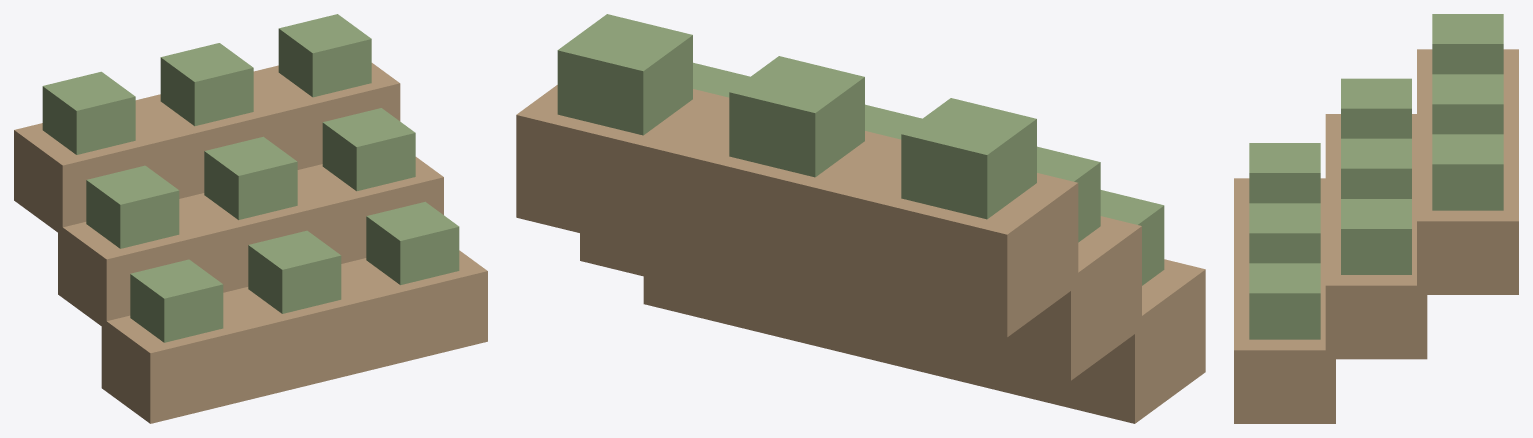
Rendered from voxel-city-districts-produce-display-f2a05327__24876.glb.
3 renders of one model, left to right at view 1: azimuth 30°, elevation 25°; view 2: azimuth 150°, elevation 25°; view 3: azimuth 270°, elevation 25°, orthographic. The views are drawn at different scales.
Visible parts, largest first — view 1: produce-display-wood, produce-display-green; view 2: produce-display-wood, produce-display-green; view 3: produce-display-green, produce-display-wood.
Boxes of the visible parts, left/top/right/bottom form: produce-display-wood: left=14, top=63, right=487, bottom=423; produce-display-green: left=42, top=14, right=459, bottom=342; produce-display-wood: left=516, top=85, right=1205, bottom=423; produce-display-green: left=557, top=14, right=1164, bottom=285; produce-display-green: left=1249, top=14, right=1503, bottom=339; produce-display-wood: left=1234, top=49, right=1518, bottom=423.
Size of the model in its own units: 2 by 1.35 by 1.4.
